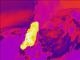Foc: (19, 15, 45, 53)
